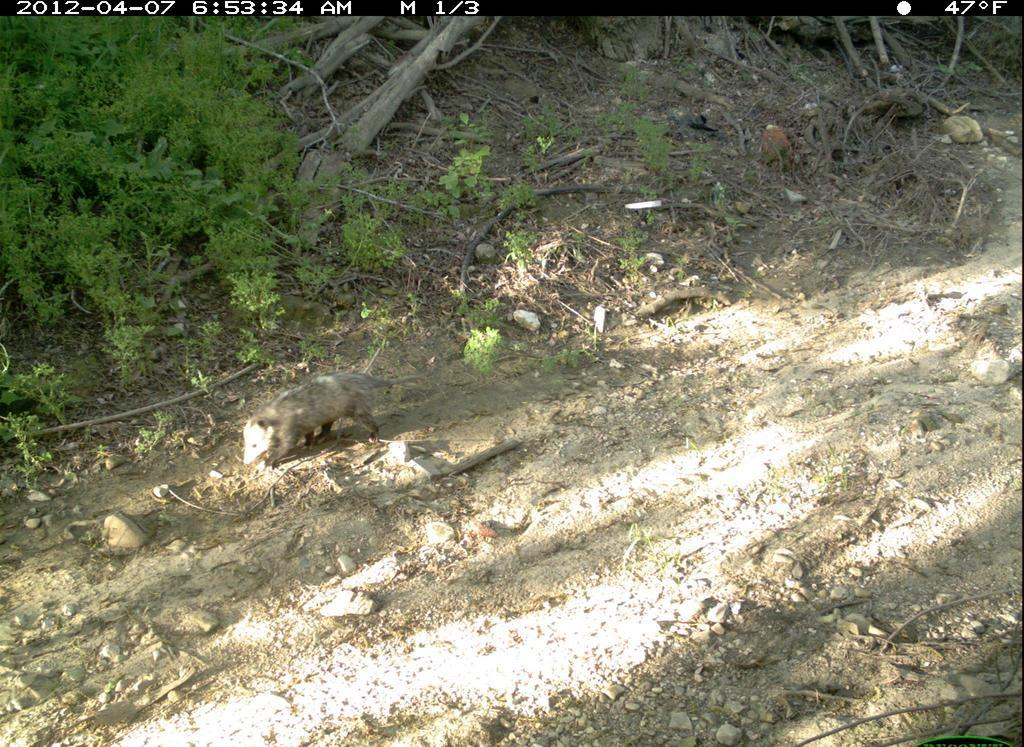opossum: (226, 358, 402, 481)
